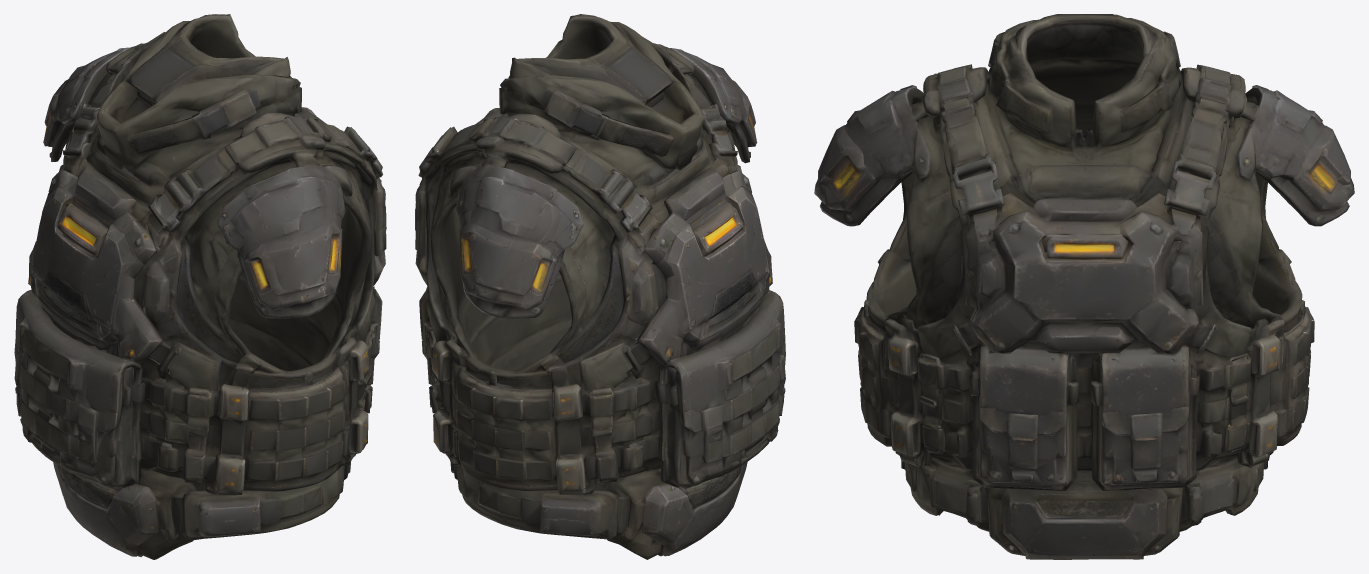
Rendered from body-armor-iii-v1.glb.
The picture shows the model from 3 angles, left to right: view 1: azimuth 30°, elevation 25°; view 2: azimuth 150°, elevation 25°; view 3: azimuth 270°, elevation 25°; orthographic projection. The views are drawn at different scales.
Parts seen in each view (by area): view 1: tripo_node_873d0a59-83a7-4130-975c-341f48e5399b; view 2: tripo_node_873d0a59-83a7-4130-975c-341f48e5399b; view 3: tripo_node_873d0a59-83a7-4130-975c-341f48e5399b.
Boxes of the visible parts, box(x1,y1,x2,y2) form: tripo_node_873d0a59-83a7-4130-975c-341f48e5399b: box(14, 14, 386, 559); tripo_node_873d0a59-83a7-4130-975c-341f48e5399b: box(415, 14, 785, 559); tripo_node_873d0a59-83a7-4130-975c-341f48e5399b: box(814, 14, 1354, 559).
Bounding box in the file's own units: 0.6803 × 0.98 × 0.9333.
Materials: 1 (1 with a texture image).
